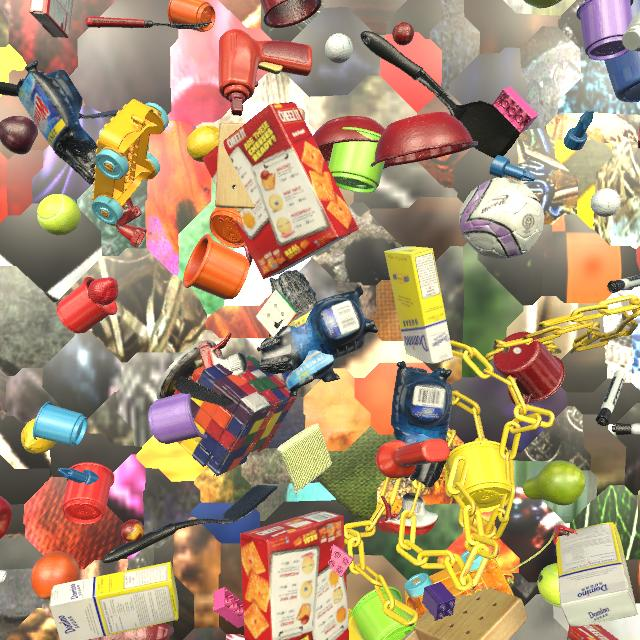ycb_003_cracker_box: (202, 102, 359, 279), (240, 511, 349, 640), (567, 624, 618, 640)
ycb_004_sugar_box: (49, 562, 179, 640), (556, 522, 638, 626), (384, 246, 454, 364)
ycb_009_gelatin_box: (29, 0, 74, 38), (638, 124, 640, 148)
ycb_012_strawberry: (88, 277, 119, 306)
ycb_013_apple: (0, 496, 12, 539)
ycb_014_lemon: (21, 418, 57, 454), (186, 125, 219, 162)
ycb_016_pear: (523, 460, 586, 505)
ycb_017_orange: (31, 551, 80, 600)
ycb_018_plum: (0, 116, 38, 154)
